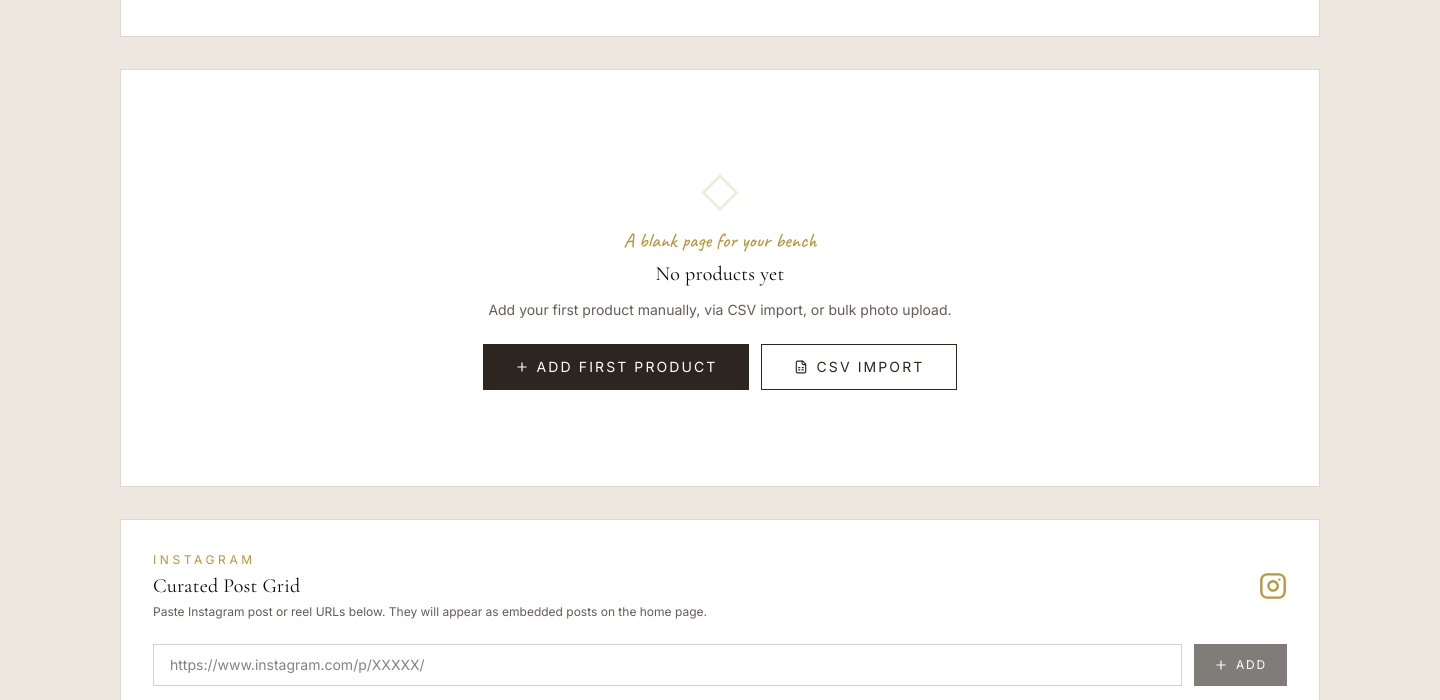
Scenario: Admin page — catalogue list and stats › shows the empty state and opens the add form from it
The width and height of the screenshot is (1440, 700).
(page scrolled)
Expected: the heading "No products yet" is shown, [656,262,784,286]
Click the button "Add First Product".
click(616, 367)  # box [483,344,750,390]
(page scrolled)
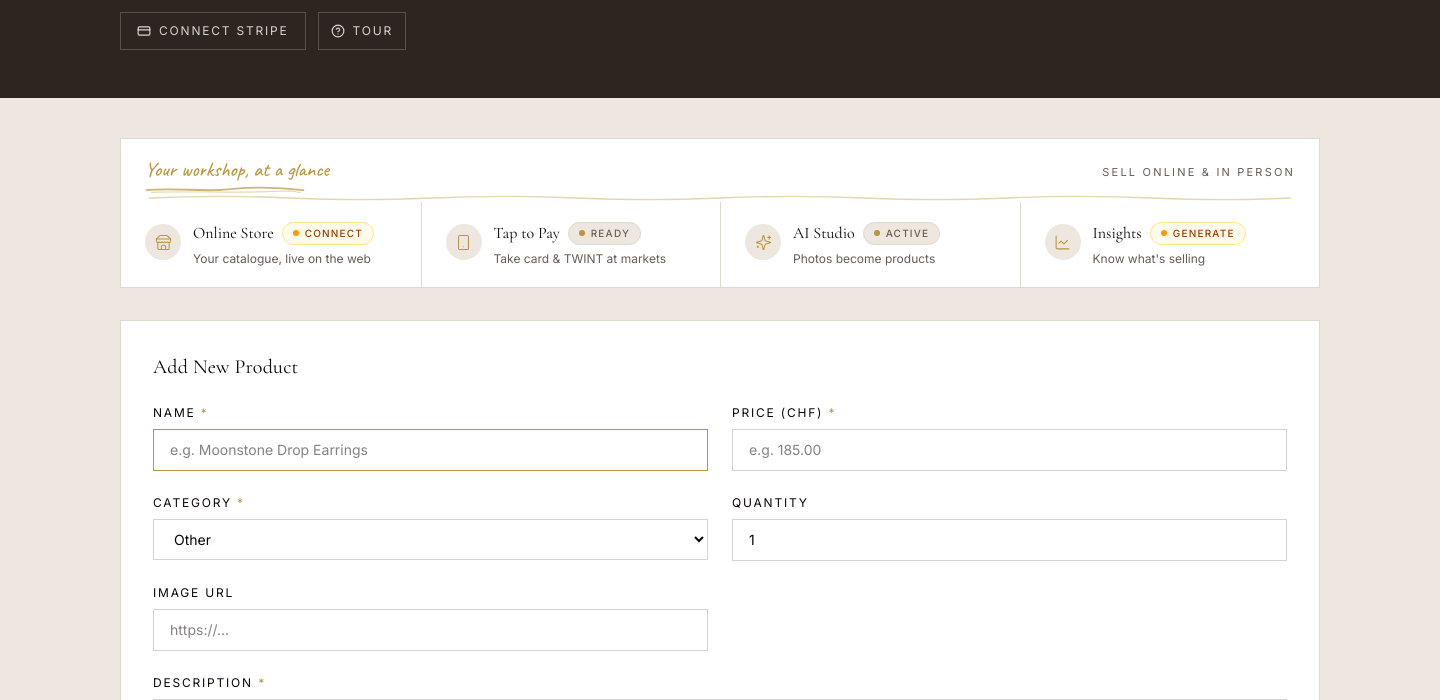
Expected: the heading "Add New Product" is shown, [153,355,298,379]
